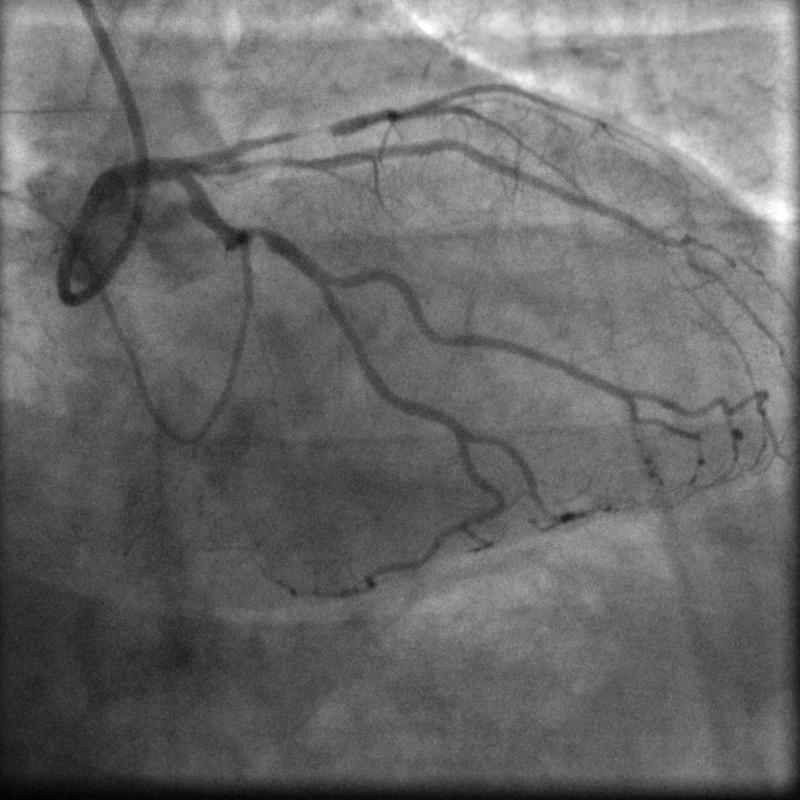Stenosis: (242, 222, 276, 247)
